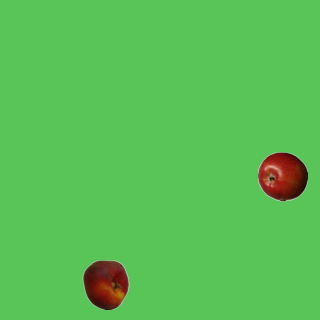Apple Braeburn: (257, 151, 307, 201)
Nectarine Flat: (80, 259, 130, 309)
